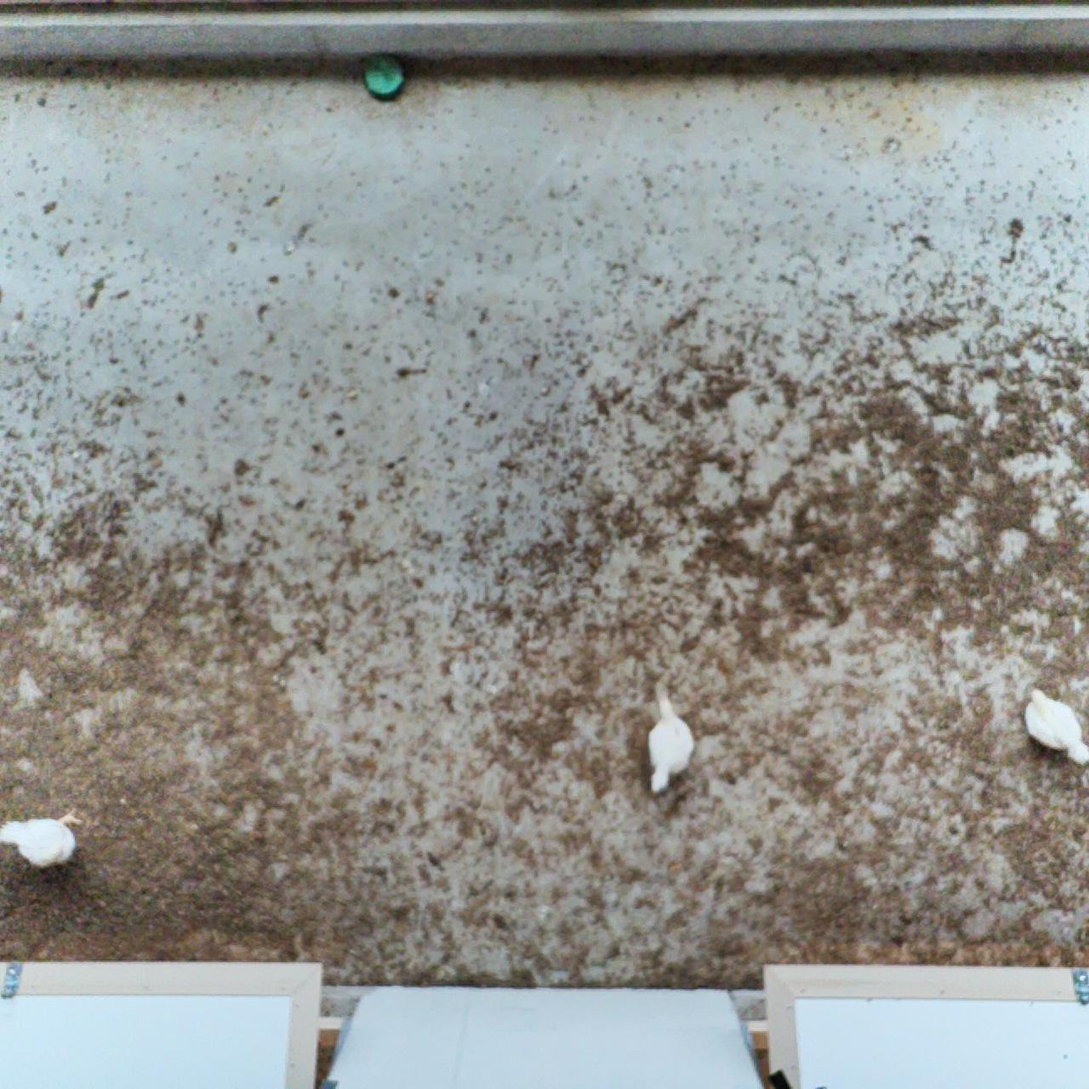chicken: (630, 679, 698, 791), (0, 804, 86, 875), (1019, 683, 1089, 768)
